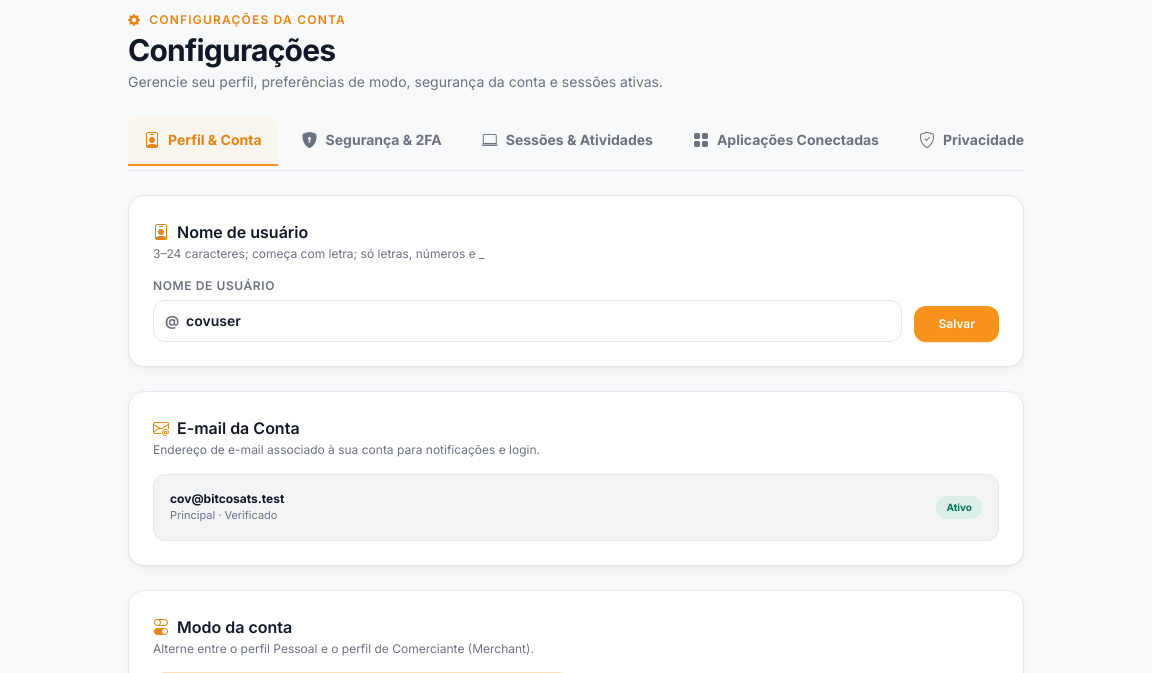
Test: SettingsPage API contract › revoke-others surfaces the server error instead of faking success
Click the button "Sessões & Atividades" at (567, 141), box x1=466 y1=116 x2=669 y2=166
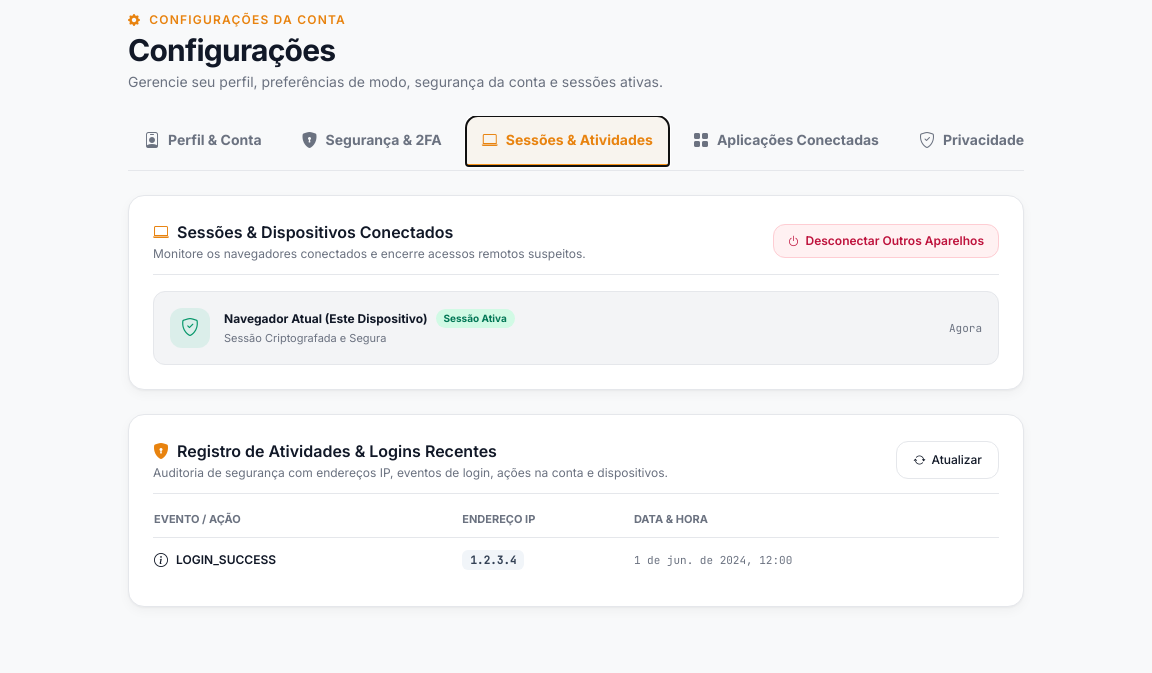
Click the button "Desconectar Outros Aparelhos" at (886, 241), box x1=772 y1=224 x2=999 y2=258
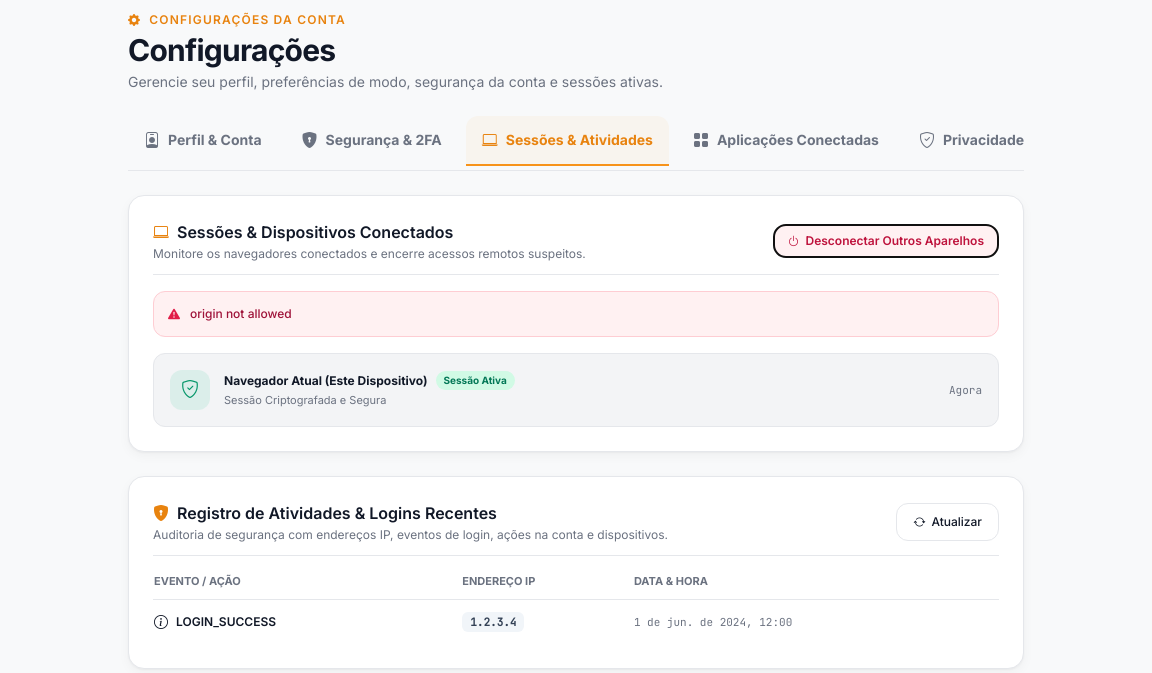
Result: the text "origin not allowed" is shown at x1=190 y1=306 x2=292 y2=322
